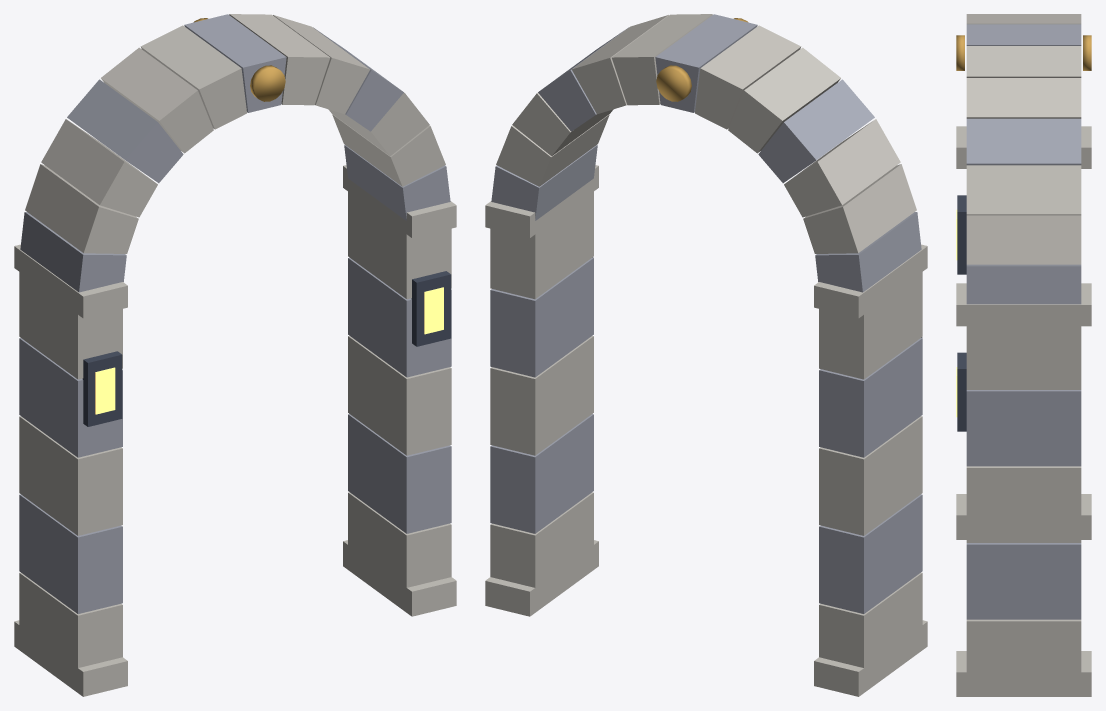
Rendered from stair_arch.glb.
The picture shows the model from 3 angles, left to right: view 1: azimuth 30°, elevation 25°; view 2: azimuth 150°, elevation 25°; view 3: azimuth 270°, elevation 25°; orthographic projection. The views are drawn at different scales.
Parts seen in each view (by area): view 1: Stair_arch_limestone_pier.001, Stair_arch_limestone_pier.002, Stair_arch_limestone_pier.006, Stair_arch_limestone_pier.007, Stair_arch_limestone_pier.005, Stair_arch_limestone_pier.009, Stair_arch_limestone_pier.004, Stair_arch_limestone_pier.003, Stair_arch_limestone_pier.008, Stair_arch_limestone_pier, Stair_arch_radial_stone.010, Stair_arch_radial_stone.009 (+20 smaller); view 2: Stair_arch_limestone_pier.001, Stair_arch_limestone_pier.002, Stair_arch_limestone_pier.006, Stair_arch_limestone_pier.003, Stair_arch_limestone_pier.008, Stair_arch_limestone_pier.007, Stair_arch_limestone_pier.004, Stair_arch_limestone_pier.005, Stair_arch_limestone_pier.009, Stair_arch_limestone_pier, Stair_arch_radial_stone.010, Stair_arch_radial_stone.009 (+16 smaller); view 3: Stair_arch_limestone_pier.006, Stair_arch_limestone_pier.007, Stair_arch_limestone_pier.008, Stair_arch_limestone_pier.009, Stair_arch_limestone_pier.005, Stair_arch_radial_stone.002, Stair_arch_radial_stone.001, Stair_arch_radial_stone.003, Stair_arch_radial_stone.004, Stair_arch_radial_stone, Stair_arch_radial_stone.005, Stair_arch_pier_foot.001 (+9 smaller).
Boxes of the visible parts, x1,y1,x2,y2 form: Stair_arch_limestone_pier.001: [19, 494, 122, 613]; Stair_arch_limestone_pier.002: [19, 416, 122, 535]; Stair_arch_limestone_pier.006: [348, 414, 451, 533]; Stair_arch_limestone_pier.007: [348, 336, 451, 455]; Stair_arch_limestone_pier.005: [348, 492, 451, 611]; Stair_arch_limestone_pier.009: [348, 180, 451, 299]; Stair_arch_limestone_pier.004: [19, 260, 122, 379]; Stair_arch_limestone_pier.003: [19, 338, 122, 457]; Stair_arch_limestone_pier.008: [348, 257, 451, 377]; Stair_arch_limestone_pier: [19, 572, 122, 667]; Stair_arch_radial_stone.010: [41, 119, 157, 217]; Stair_arch_radial_stone.009: [67, 79, 183, 183]; Stair_arch_limestone_pier.001: [819, 494, 922, 613]; Stair_arch_limestone_pier.002: [819, 416, 922, 535]; Stair_arch_limestone_pier.006: [490, 414, 593, 533]; Stair_arch_limestone_pier.003: [819, 338, 922, 457]; Stair_arch_limestone_pier.008: [490, 257, 593, 377]; Stair_arch_limestone_pier.007: [490, 336, 593, 455]; Stair_arch_limestone_pier.004: [819, 260, 922, 379]; Stair_arch_limestone_pier.005: [490, 492, 593, 611]; Stair_arch_limestone_pier.009: [490, 181, 593, 299]; Stair_arch_limestone_pier: [819, 572, 922, 667]; Stair_arch_radial_stone.010: [784, 119, 900, 217]; Stair_arch_radial_stone.009: [758, 79, 874, 183]; Stair_arch_limestone_pier.006: [966, 543, 1081, 619]; Stair_arch_limestone_pier.007: [966, 466, 1081, 542]; Stair_arch_limestone_pier.008: [966, 390, 1081, 466]; Stair_arch_limestone_pier.009: [966, 314, 1081, 389]; Stair_arch_limestone_pier.005: [966, 619, 1081, 694]; Stair_arch_radial_stone.002: [966, 165, 1081, 215]; Stair_arch_radial_stone.001: [966, 215, 1081, 264]; Stair_arch_radial_stone.003: [966, 118, 1081, 165]; Stair_arch_radial_stone.004: [966, 78, 1081, 118]; Stair_arch_radial_stone: [966, 264, 1081, 304]; Stair_arch_radial_stone.005: [966, 46, 1081, 77]; Stair_arch_pier_foot.001: [956, 651, 1091, 696].
Bounding box in the file's own units: 2.5 × 3.74 × 0.8.
